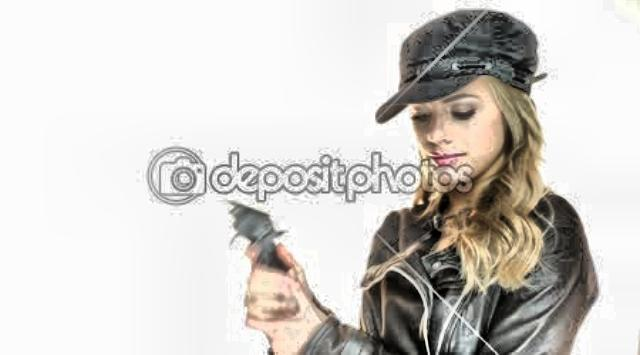pistol: (206, 193, 298, 282)
